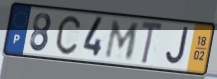4: (82, 15, 106, 62)
8: (29, 12, 53, 54)
C: (55, 14, 82, 56)
J: (164, 26, 190, 67)
M: (103, 19, 142, 62)
T: (140, 19, 165, 67)
